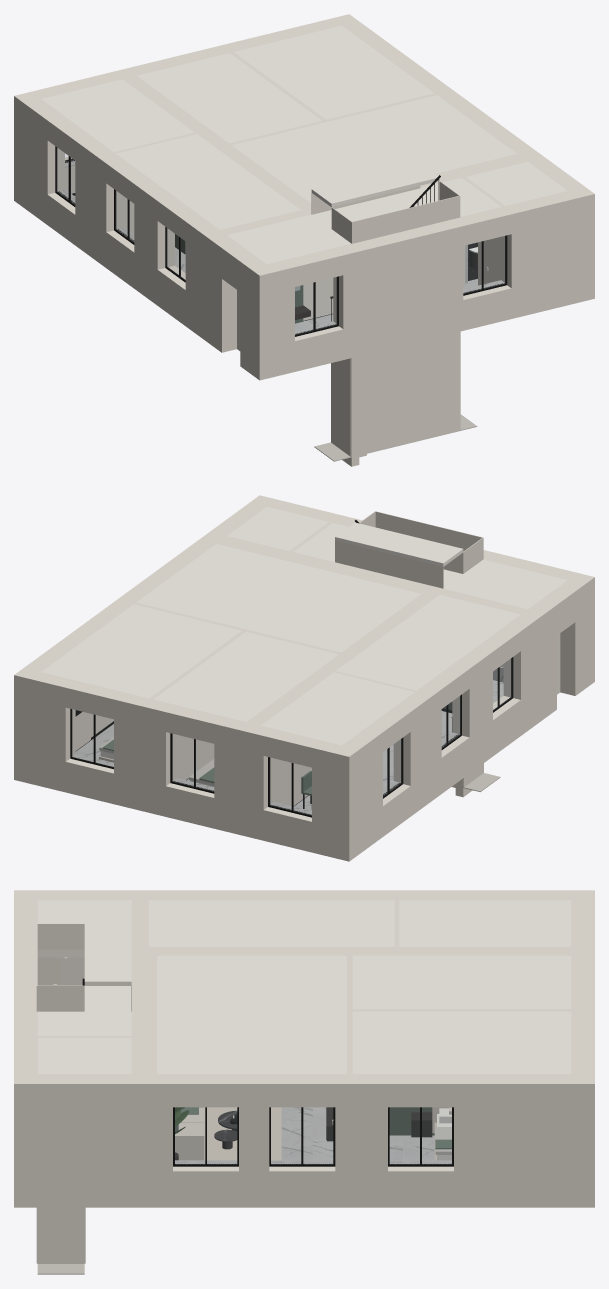
The model's file is scene_open.glb.
3 views of the same model, one above another, from view 1: azimuth 30°, elevation 25°; view 2: azimuth 150°, elevation 25°; view 3: azimuth 270°, elevation 25° (orthographic). The views are drawn at different scales.
Size of what is drawn, in the model's own units: 9.71 by 6.94 by 12.33.
55 materials, 23 textured.
